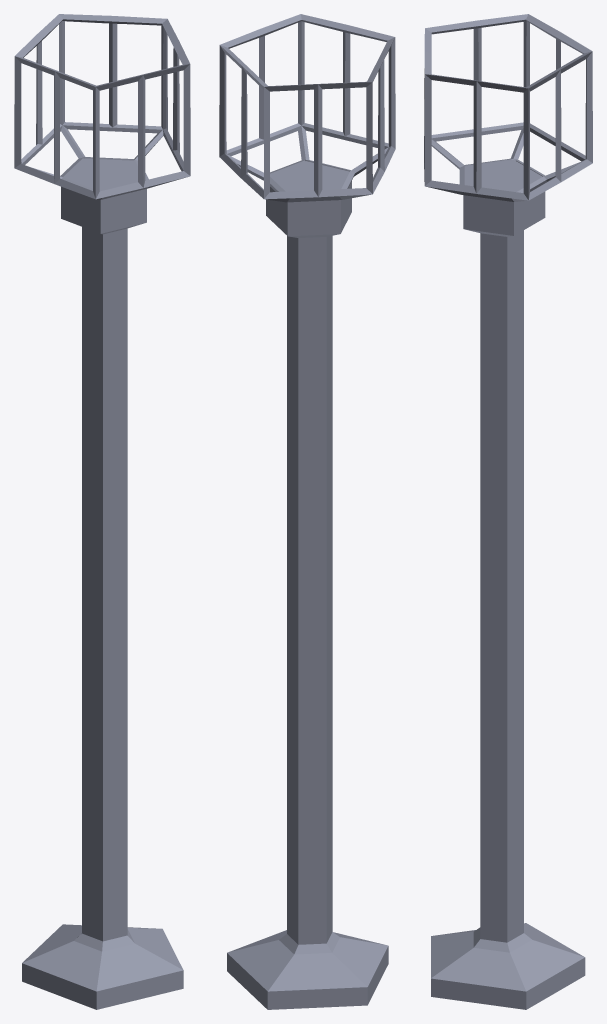
File: Tocha.fbx
3 renders of one model, left to right at view 1: azimuth 30°, elevation 25°; view 2: azimuth 150°, elevation 25°; view 3: azimuth 270°, elevation 25°, orthographic.
Parts seen in each view (by area): view 1: Tocha2.001; view 2: Tocha2.001; view 3: Tocha2.001.
Boxes of the visible parts, x1,y1,x2,y2 form: Tocha2.001: (14, 14, 190, 1009); Tocha2.001: (219, 14, 395, 1009); Tocha2.001: (424, 14, 592, 1009).
Size of the model in its own units: 39.63 by 228 by 37.82.
